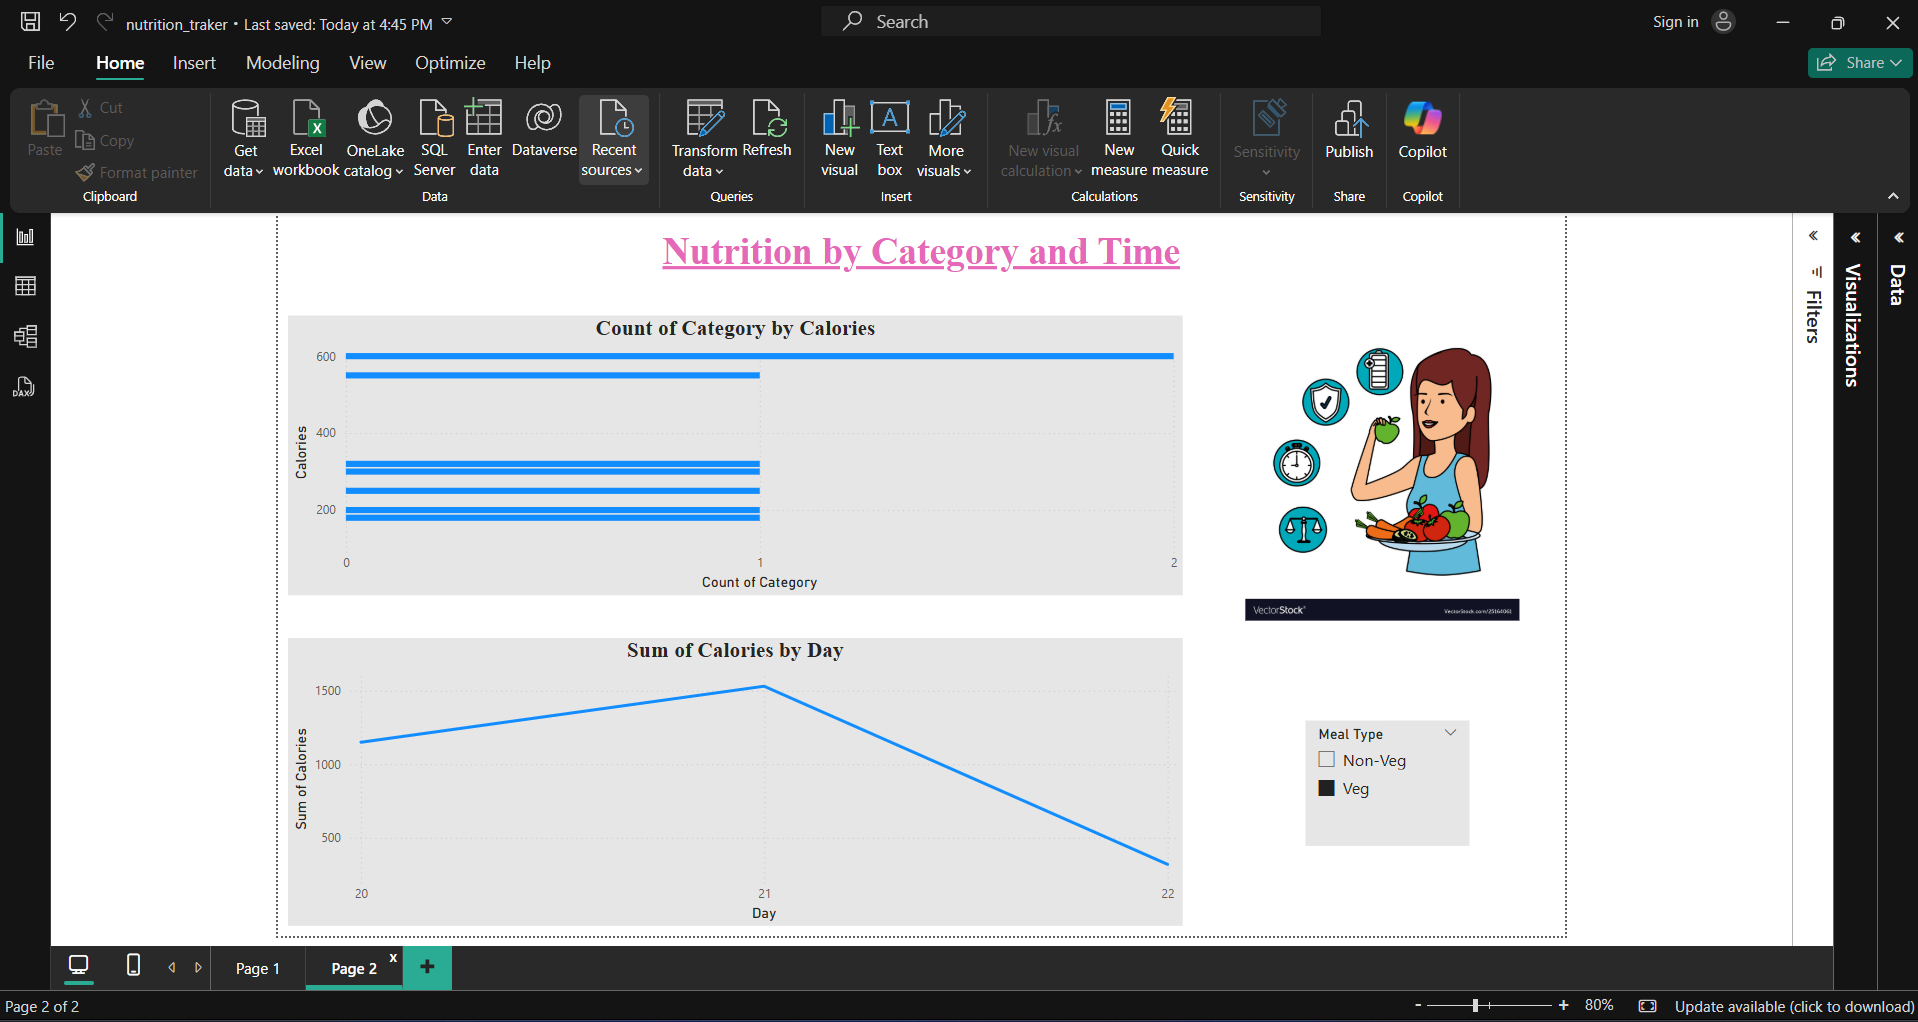

What the dashboard file says about the page in this screenshot:
{"tool":"powerbi","page":{"name":"Page 2","canvas":[1280,720],"ordinal":1},"visuals":[{"type":"clusteredBarChart","fields":{"Y":["CountNonNull(Sheet1.Category)"],"Category":["Sheet1.Calories"]},"box":[9.6,101.5,890.6,278.6],"z":0},{"type":"lineChart","fields":{"Category":["Sheet1.Date.Variation.Date Hierarchy.Day"],"Y":["Sum(Sheet1.Calories)"]},"box":[9.6,422.6,890.6,286.8],"z":1000},{"type":"slicer","fields":{"Values":["Sheet1.Meal Type"]},"box":[1022.3,505,163.3,124.9],"z":2000},{"type":"textbox","box":[0,11,1280.3,59],"z":4000},{"type":"image","box":[957.8,70,282.7,377.4],"z":4001}]}

Visuals, with their boxes on the page's 1280x720 design canvas (x1, y1, x2, y2). These are canvas units, not pixel positions in the 1918x1022 screenshot, which may show the page scaled, cropped or inside an application window:
clusteredBarChart - CountNonNull(Sheet1.Category) x Sheet1.Calories: locate(10, 102, 900, 380)
lineChart - Sheet1.Date.Variation.Date Hierarchy.Day x Sum(Sheet1.Calories): locate(10, 423, 900, 709)
slicer - Sheet1.Meal Type: locate(1022, 505, 1186, 630)
textbox: locate(0, 11, 1280, 70)
image: locate(958, 70, 1240, 447)
